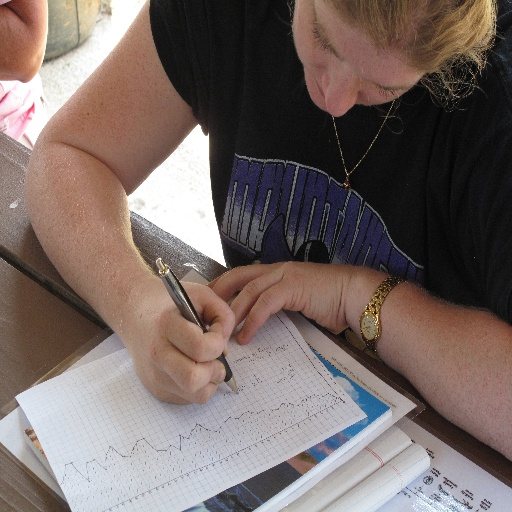hand: (206, 261, 351, 348), (128, 284, 234, 400)
